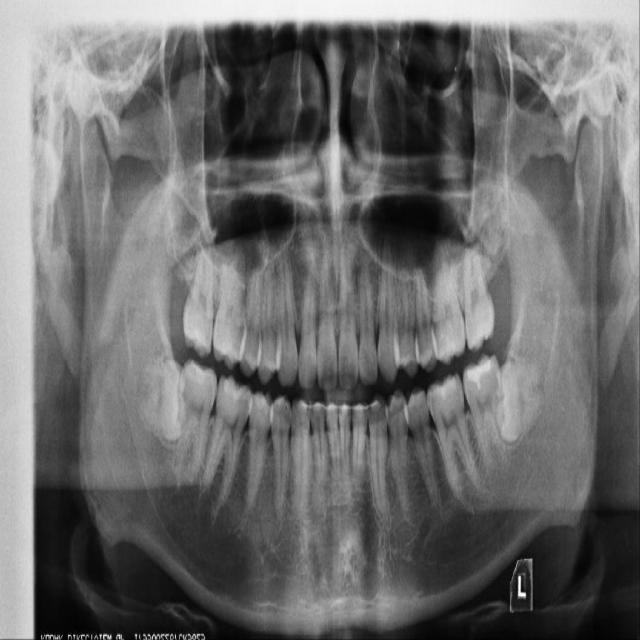52: (447, 348, 511, 409), (416, 370, 474, 423)
73: (621, 592, 632, 612)
BioHorizons Implant: (459, 244, 497, 351)
Biomet 3i Implant: (496, 358, 544, 443)
Blue Sky Bio Implant: (460, 351, 508, 468)
Caries: (181, 242, 216, 360)
Implant: (173, 358, 219, 480)
Keystone Dental Implant: (137, 360, 189, 442)
